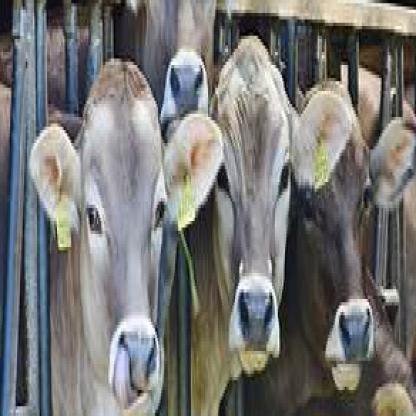cow: (26, 59, 220, 413), (188, 35, 352, 412), (295, 81, 415, 397)
